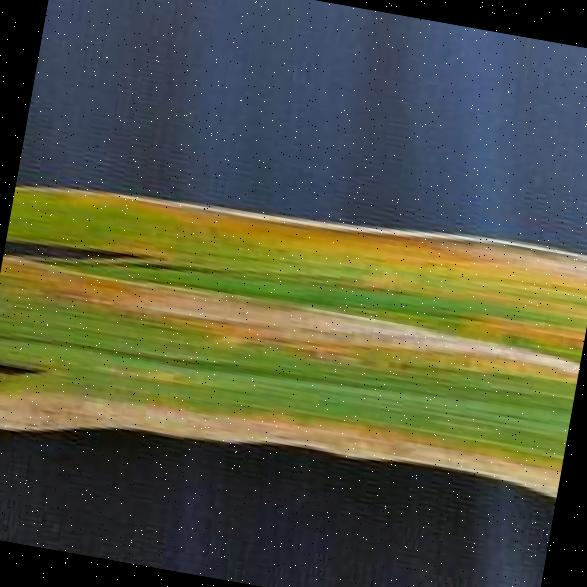Bacteria_Leaf_Blight: (0, 157, 587, 501)
